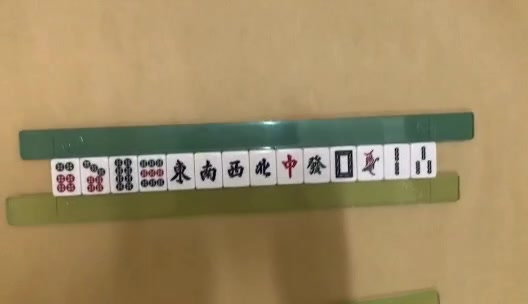1s: (363, 151, 380, 177)
1z: (172, 159, 192, 183)
2s: (394, 147, 401, 175)
2z: (199, 161, 219, 182)
3s: (415, 146, 433, 175)
3z: (226, 160, 246, 178)
4z: (255, 158, 272, 177)
5z: (334, 151, 353, 177)
6p: (56, 162, 78, 192)
6z: (306, 157, 328, 175)
7p: (84, 160, 105, 193)
7z: (283, 156, 297, 177)
8p: (115, 159, 134, 192)
9p: (141, 158, 166, 186)
